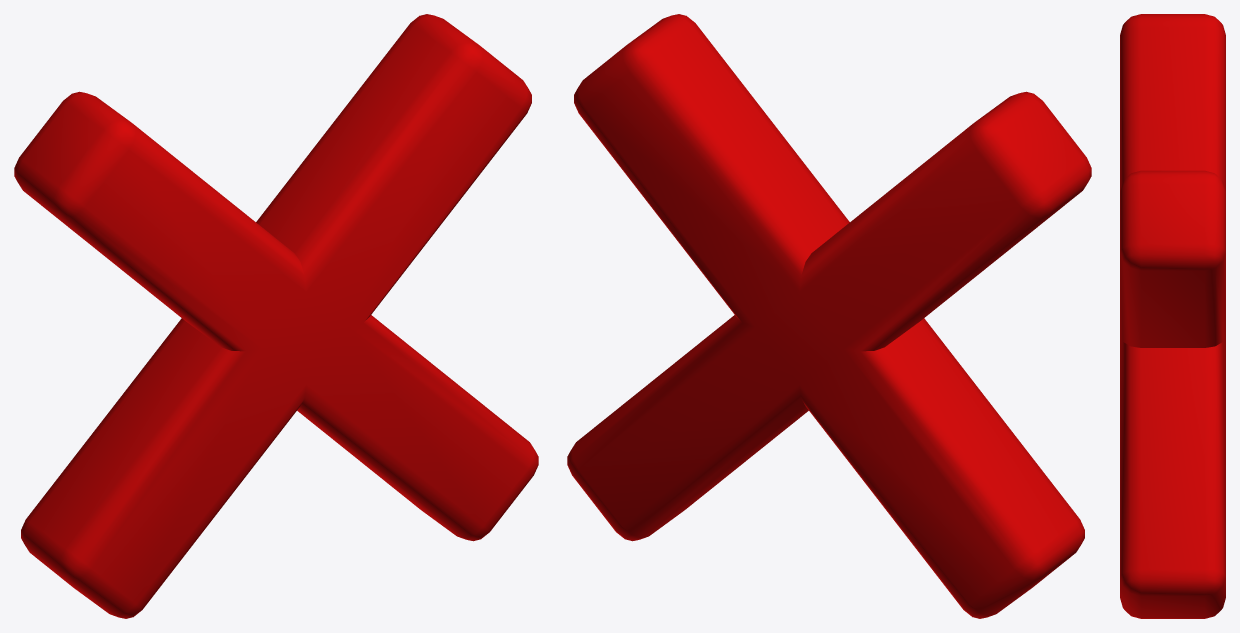
File: Wrong Mark.fbx
The picture shows the model from 3 angles, left to right: view 1: azimuth 30°, elevation 25°; view 2: azimuth 150°, elevation 25°; view 3: azimuth 270°, elevation 25°; orthographic projection. The views are drawn at different scales.
Parts seen in each view (by area): view 1: Wrong Mark; view 2: Wrong Mark; view 3: Wrong Mark.
Part boxes in pixels (x1=…): Wrong Mark: x1=14, y1=14, x2=538, y2=618; Wrong Mark: x1=567, y1=14, x2=1091, y2=618; Wrong Mark: x1=1120, y1=14, x2=1225, y2=618.
Size of the model in its own units: 0.2067 by 0.2067 by 0.0443.
